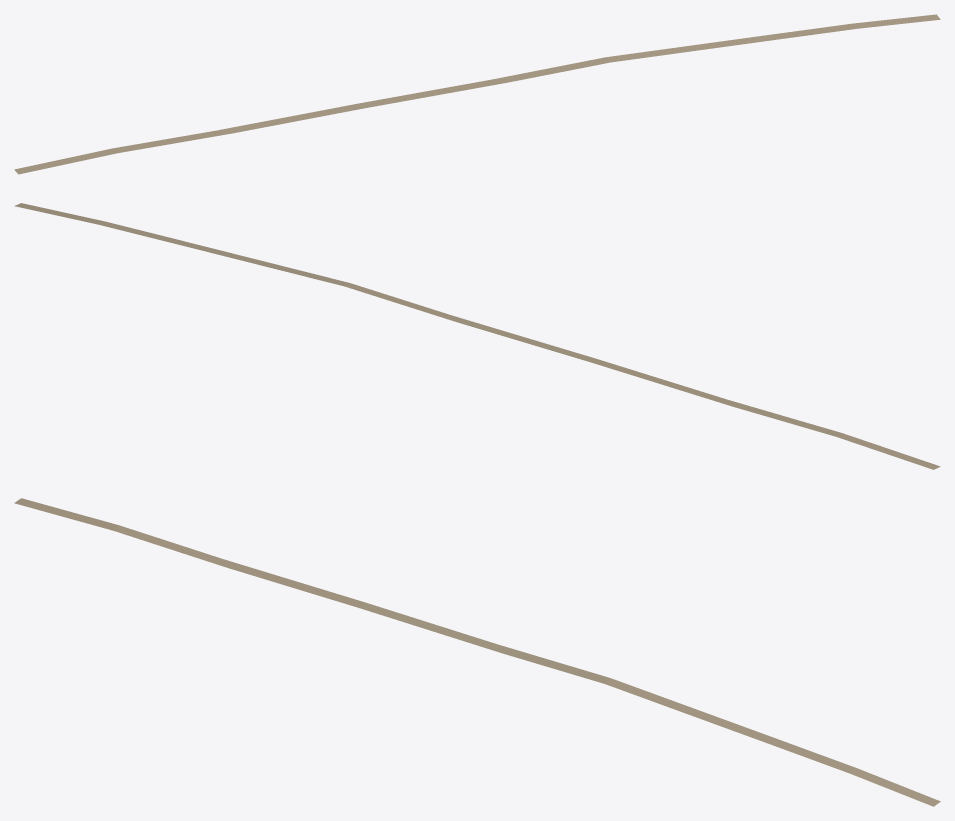
Rendered from farm_-10_-3_track.glb.
The picture shows the model from 3 angles, top to bottom: view 1: azimuth 30°, elevation 25°; view 2: azimuth 150°, elevation 25°; view 3: azimuth 330°, elevation 25°; orthographic projection. The views are drawn at different scales.
Parts seen in each view (by area): view 1: geometry_0; view 2: geometry_0; view 3: geometry_0.
Boxes of the visible parts, <box> form: geometry_0: <box>14,14,940,174</box>; geometry_0: <box>14,203,940,469</box>; geometry_0: <box>14,498,940,806</box>.
Bounding box in the file's own units: 300 × 6.99 × 35.33.
